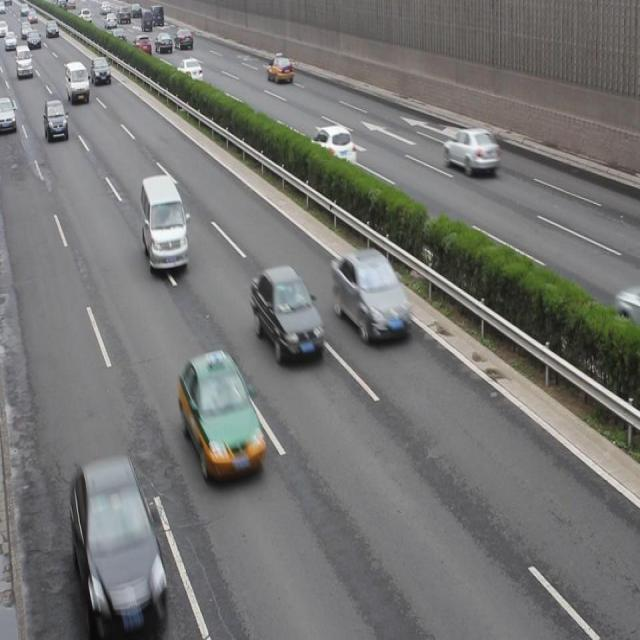car: (71, 460, 167, 640), (179, 353, 264, 479), (331, 249, 410, 346), (250, 264, 324, 363), (443, 127, 498, 176), (313, 122, 355, 166), (45, 100, 68, 143), (266, 52, 292, 82), (176, 58, 203, 81), (92, 56, 112, 86), (1, 97, 16, 132), (132, 34, 153, 57), (175, 27, 193, 50), (155, 33, 172, 55), (111, 28, 126, 47)
truck: (140, 175, 188, 274), (65, 60, 90, 105), (16, 44, 33, 78)
